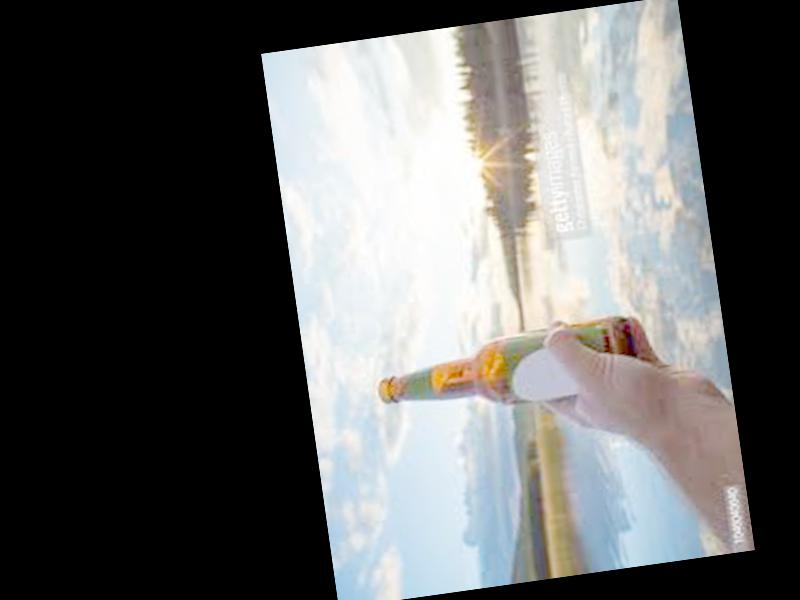Beer: (369, 310, 637, 425)
